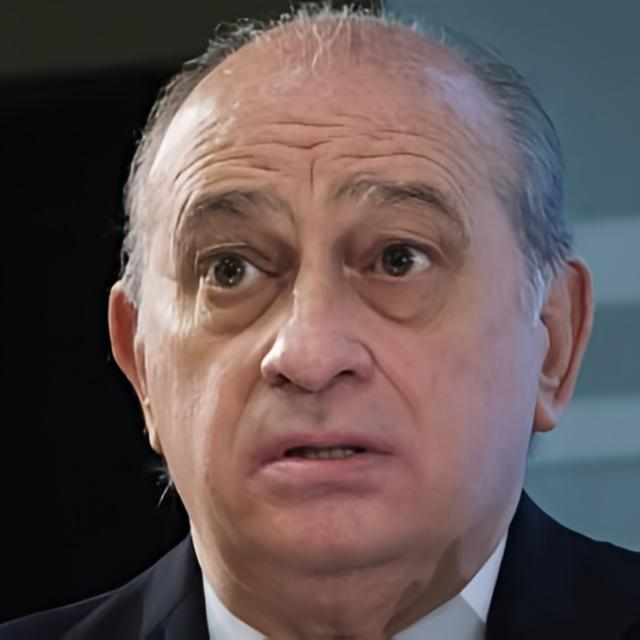surprise: (143, 44, 539, 571)
